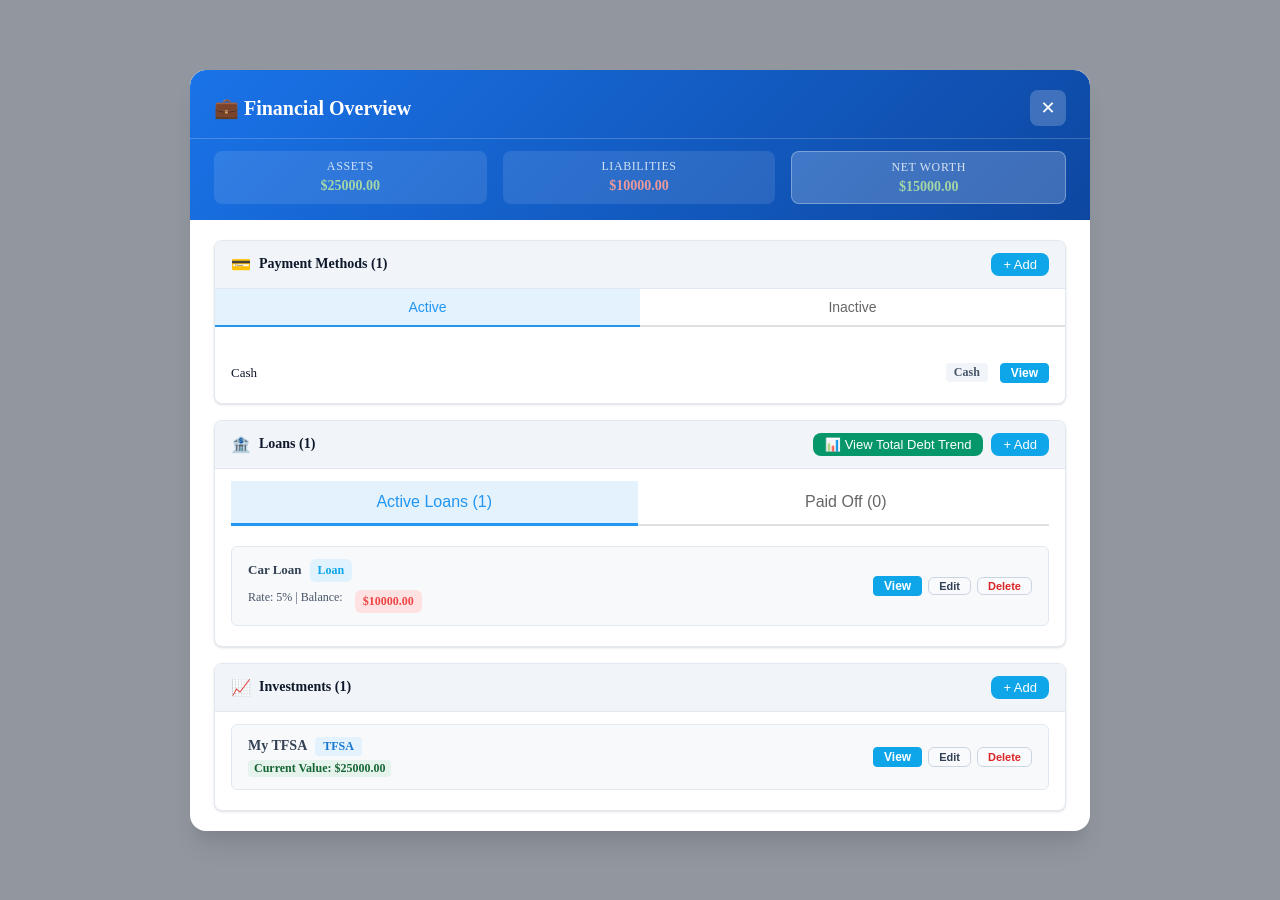
Test case: FinancialOverviewModal › Add buttons open correct forms (Req 10.2, 10.3, 10.4) › should open investment creation form when Add button in investments section is clicked
Expected: the element with test id "investments-section" is shown, [214,662,1066,810]
Click the button with class "financial-section-add-button" in the row of "Investments (". click: [1020, 687]
box: [991,676,1049,698]
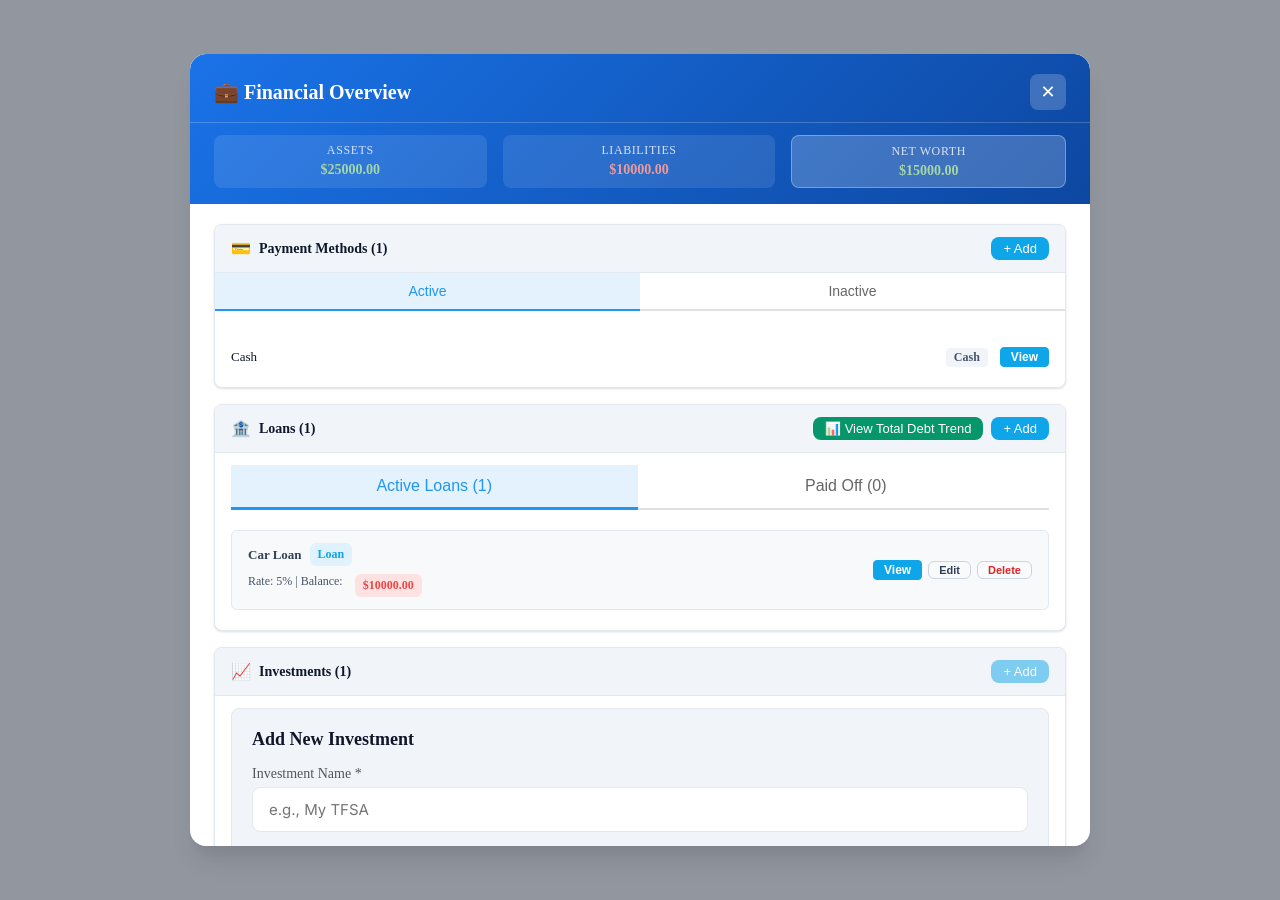
Result: the heading "Add New Investment" is shown at [252,729,414,749]
Result: the text "Investment Name *" is shown at [252,766,362,781]
